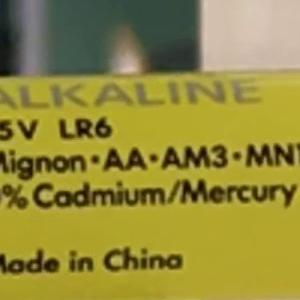LR6: (49, 107, 122, 150)
